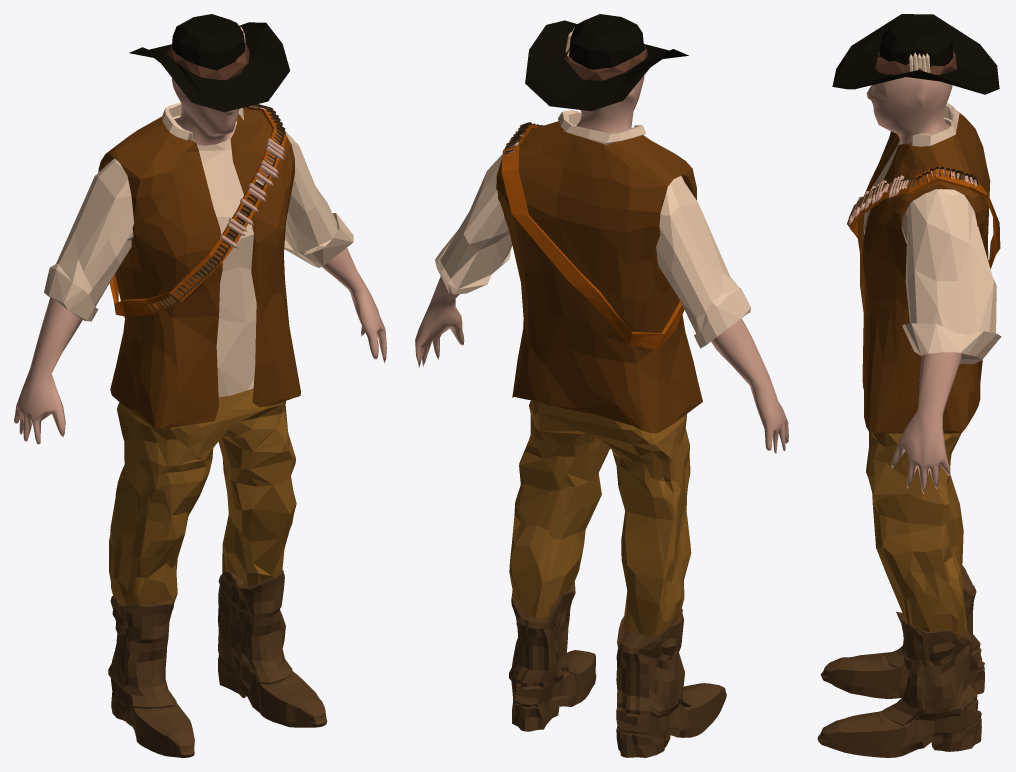
The model's file is Cowboy.fbx.
3 views of the same model, side by side, from view 1: azimuth 30°, elevation 25°; view 2: azimuth 150°, elevation 25°; view 3: azimuth 270°, elevation 25° (orthographic).
Visible parts, largest first — view 1: Cube.002_Cube.000, Cube_Cube.000, Cube_Cube.002, Cube_Cube.004, Cube.001_Cube.005, Group1, Cube_Cube.001, Cube.003_Cube; view 2: Cube.002_Cube.000, Cube_Cube.000, Cube_Cube.002, Cube_Cube.001, Cube.001_Cube.005, Cube_Cube.004, Group1, Cube.003_Cube; view 3: Cube.002_Cube.000, Cube_Cube.002, Cube_Cube.000, Cube_Cube.004, Group1, Cube.001_Cube.005, Cube_Cube.001, Cube.003_Cube.
Boxes of the visible parts, bbox=[...] form: Cube.002_Cube.000: bbox=[98, 108, 300, 428]; Cube_Cube.000: bbox=[109, 388, 296, 605]; Cube_Cube.002: bbox=[44, 102, 353, 396]; Cube_Cube.004: bbox=[218, 570, 327, 727]; Cube.001_Cube.005: bbox=[129, 14, 289, 112]; Group1: bbox=[14, 78, 386, 444]; Cube_Cube.001: bbox=[108, 596, 194, 757]; Cube.003_Cube: bbox=[109, 104, 286, 316]; Cube.002_Cube.000: bbox=[496, 121, 702, 433]; Cube_Cube.000: bbox=[509, 400, 691, 636]; Cube_Cube.002: bbox=[435, 110, 751, 348]; Cube_Cube.001: bbox=[616, 608, 726, 757]; Cube.001_Cube.005: bbox=[525, 14, 688, 111]; Cube_Cube.004: bbox=[509, 582, 596, 731]; Group1: bbox=[415, 75, 788, 453]; Cube.003_Cube: bbox=[501, 122, 684, 349]; Cube.002_Cube.000: bbox=[857, 111, 990, 433]; Cube_Cube.002: bbox=[863, 103, 1001, 364]; Cube_Cube.000: bbox=[866, 431, 967, 635]; Cube_Cube.004: bbox=[817, 611, 981, 757]; Group1: bbox=[866, 77, 961, 494]; Cube.001_Cube.005: bbox=[832, 14, 999, 94]; Cube_Cube.001: bbox=[820, 565, 984, 698]; Cube.003_Cube: bbox=[847, 166, 1000, 268].
Bounding box in the file's own units: 2.34 × 1.04 × 4.29.
